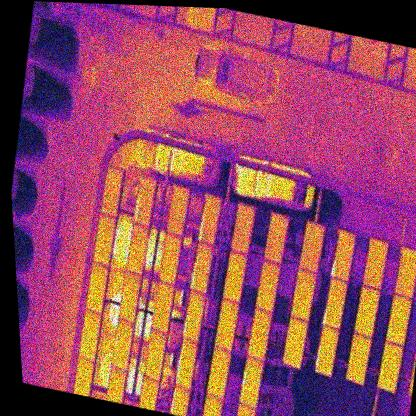Diode: (319, 276, 350, 330), (236, 354, 267, 408), (327, 229, 358, 282), (312, 324, 341, 376), (131, 175, 160, 226), (179, 289, 207, 341), (187, 241, 215, 293), (196, 193, 223, 245), (172, 336, 199, 388)
Hotspot: (108, 317, 136, 371)
Normal: (351, 283, 383, 338), (358, 235, 390, 290), (89, 212, 120, 266), (375, 339, 406, 392), (252, 258, 283, 311), (296, 220, 327, 273), (244, 307, 274, 361), (384, 292, 414, 346), (288, 269, 318, 322), (280, 317, 311, 368), (204, 344, 232, 400), (156, 231, 185, 285), (123, 222, 152, 276), (262, 212, 292, 264), (228, 202, 258, 254), (212, 297, 240, 351), (148, 279, 176, 333), (115, 269, 143, 323), (220, 250, 248, 304), (98, 164, 126, 218), (141, 327, 169, 381), (343, 332, 372, 383), (163, 184, 192, 235), (76, 309, 103, 362), (84, 260, 110, 313), (392, 247, 416, 298)
